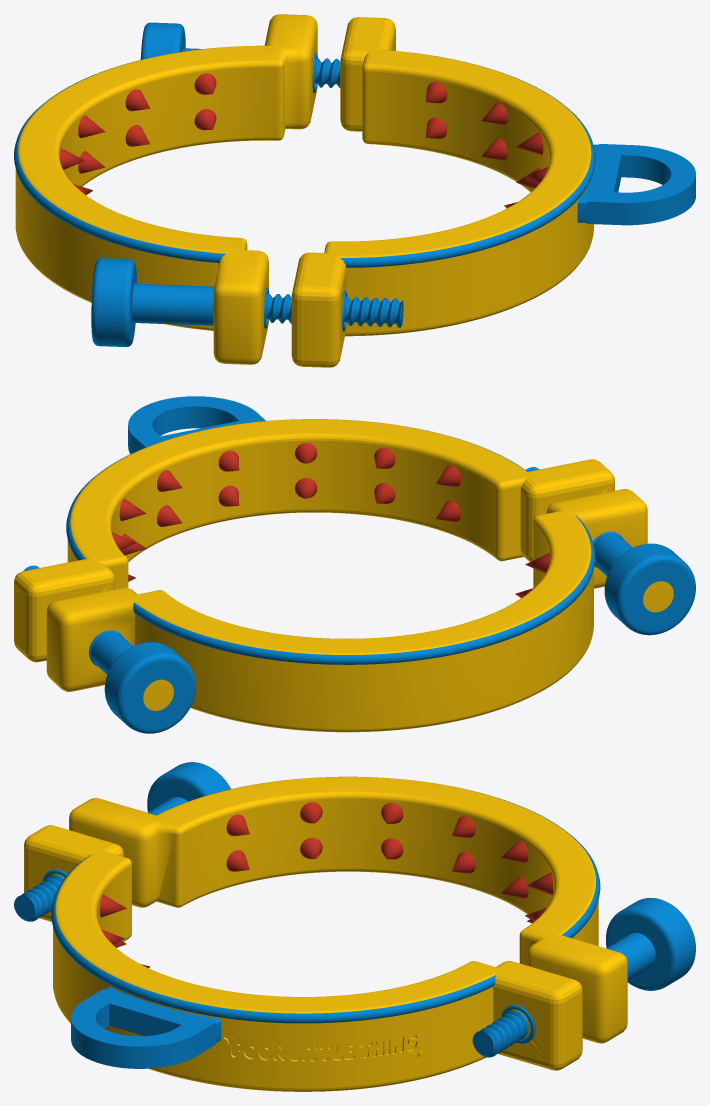
The model's file is crescent.glb.
3 renders of one model, top to bottom at view 1: azimuth 30°, elevation 25°; view 2: azimuth 150°, elevation 25°; view 3: azimuth 270°, elevation 25°, orthographic.
Visible parts, largest first — view 1: crescent-part-019, crescent-part-001, crescent-part-046, crescent-part-037, crescent-part-020, crescent-part-002, crescent-part-048; view 2: crescent-part-001, crescent-part-019, crescent-part-048, crescent-part-046, crescent-part-002, crescent-part-037, crescent-part-047, crescent-part-049, crescent-part-020; view 3: crescent-part-001, crescent-part-019, crescent-part-037, crescent-part-048, crescent-part-020, crescent-part-046, crescent-part-002.
Part boxes in pixels (<box>): crescent-part-019: <box>291,17,593,367</box>; crescent-part-001: <box>15,14,317,364</box>; crescent-part-046: <box>91,258,403,346</box>; crescent-part-037: <box>577,144,695,225</box>; crescent-part-020: <box>341,52,595,267</box>; crescent-part-002: <box>14,48,225,262</box>; crescent-part-048: <box>140,22,340,87</box>; crescent-part-001: <box>46,489,647,732</box>; crescent-part-019: <box>14,419,614,662</box>; crescent-part-048: <box>23,565,195,733</box>; crescent-part-046: <box>526,467,695,635</box>; crescent-part-002: <box>133,515,595,664</box>; crescent-part-037: <box>128,396,265,453</box>; crescent-part-047: <box>643,581,673,612</box>; crescent-part-049: <box>143,679,173,710</box>; crescent-part-020: <box>66,419,527,560</box>; crescent-part-001: <box>69,776,627,1043</box>; crescent-part-019: <box>24,825,582,1091</box>; crescent-part-037: <box>71,986,221,1068</box>; crescent-part-048: <box>472,898,695,1057</box>; crescent-part-020: <box>51,855,495,1023</box>; crescent-part-046: <box>14,762,230,921</box>; crescent-part-002: <box>156,776,600,937</box>.
Bounding box in the file's own units: 2.95 × 0.3889 × 3.
